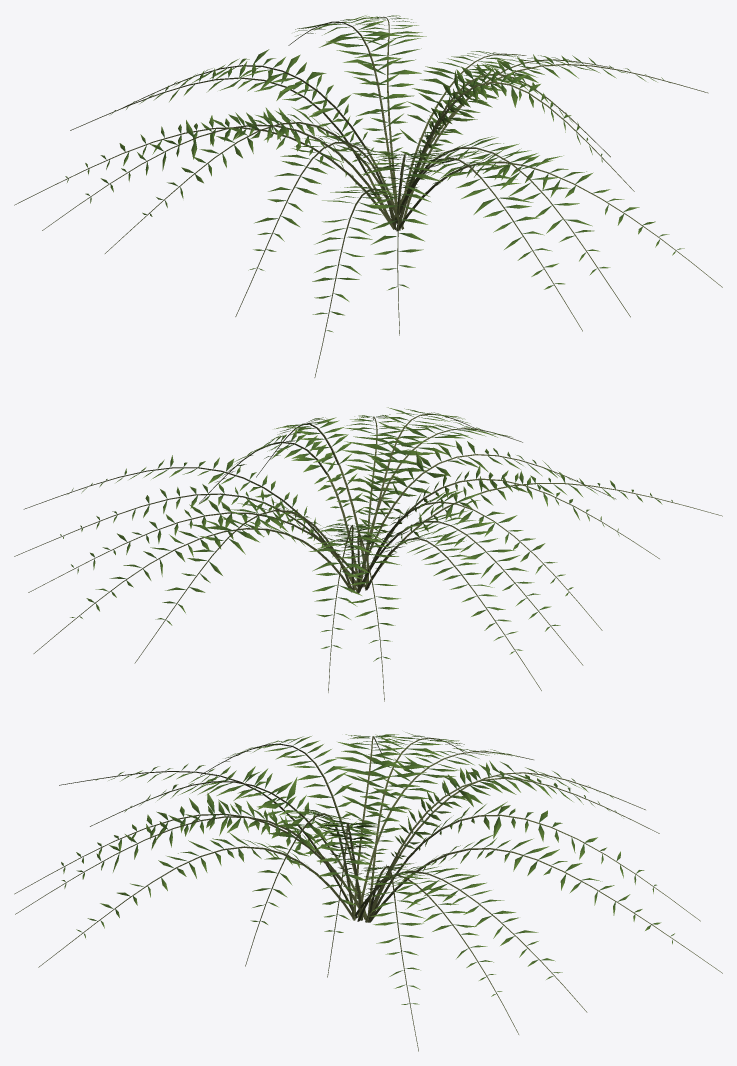
File: forest_fern_002_c_LOD1.gltf
3 renders of one model, top to bottom at view 1: azimuth 30°, elevation 25°; view 2: azimuth 150°, elevation 25°; view 3: azimuth 270°, elevation 25°, orthographic. The views are drawn at different scales.
Visible parts, largest first — view 1: forest_fern_002_c_LOD1; view 2: forest_fern_002_c_LOD1; view 3: forest_fern_002_c_LOD1.
Boxes of the visible parts, x1,y1,x2,y2 form: forest_fern_002_c_LOD1: (14, 15, 722, 377); forest_fern_002_c_LOD1: (14, 407, 722, 701); forest_fern_002_c_LOD1: (14, 732, 722, 1051).
Bounding box in the file's own units: 4.76 × 1.05 × 4.8.
1 material, 1 textured.
